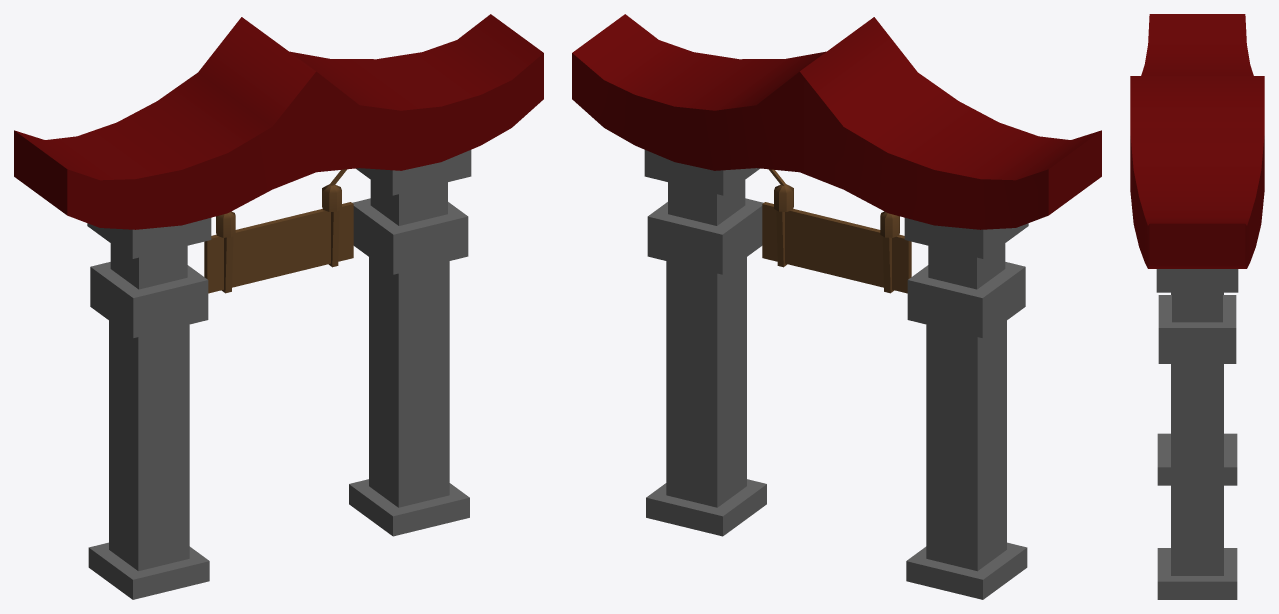
The model's file is Arc Prop.fbx.
3 renders of one model, left to right at view 1: azimuth 30°, elevation 25°; view 2: azimuth 150°, elevation 25°; view 3: azimuth 270°, elevation 25°, orthographic. The views are drawn at different scales.
Visible parts, largest first — view 1: polySurface20; view 2: polySurface20; view 3: polySurface20.
Boxes of the visible parts, x1=… form: polySurface20: x1=14, y1=14, x2=543, y2=599; polySurface20: x1=572, y1=14, x2=1101, y2=599; polySurface20: x1=1130, y1=14, x2=1264, y2=599.
Size of the model in its own units: 0.1984 by 0.1983 by 0.0538.
3 materials, 3 textured.
